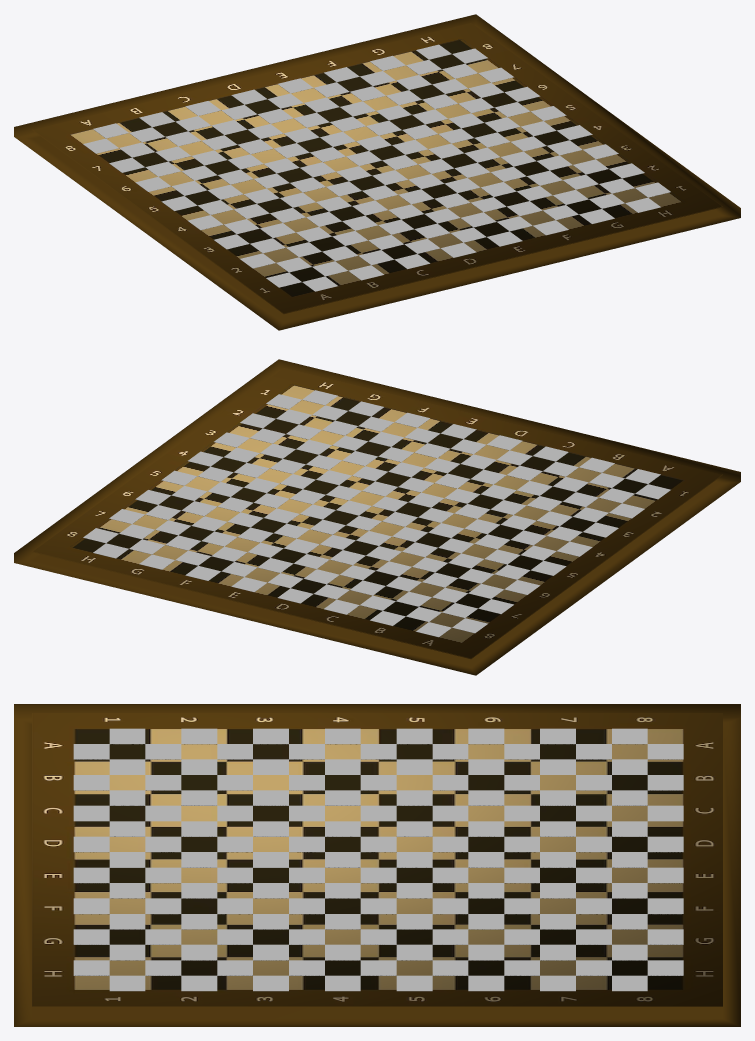
The model's file is Chessboard.glb.
3 views of the same model, one above another, from view 1: azimuth 30°, elevation 25°; view 2: azimuth 150°, elevation 25°; view 3: azimuth 270°, elevation 25° (orthographic). The views are drawn at different scales.
Visible parts, largest first — view 1: Plane.289; view 2: Plane.289; view 3: Plane.289, Plane.134, Plane.135, Plane.011, Plane.018, Plane.021, Plane.022, Plane.030, Plane.063, Plane.066, Plane.131, Plane.130 (+133 smaller).
Part boxes in pixels (x1,y1,x2,y2): Plane.289: (14, 14, 740, 330); Plane.289: (14, 359, 740, 675); Plane.289: (14, 704, 740, 1026); Plane.134: (396, 944, 432, 960); Plane.135: (468, 944, 504, 960); Plane.011: (73, 805, 109, 821); Plane.018: (181, 975, 217, 991); Plane.021: (396, 975, 432, 991); Plane.022: (468, 975, 504, 991); Plane.030: (647, 805, 683, 821); Plane.063: (145, 805, 181, 821); Plane.066: (360, 805, 396, 821); Plane.131: (181, 944, 217, 960); Plane.130: (109, 944, 145, 960).
Bounding box in the file's own units: 31.73 × 0.6439 × 31.5.
4 materials, 1 textured.
